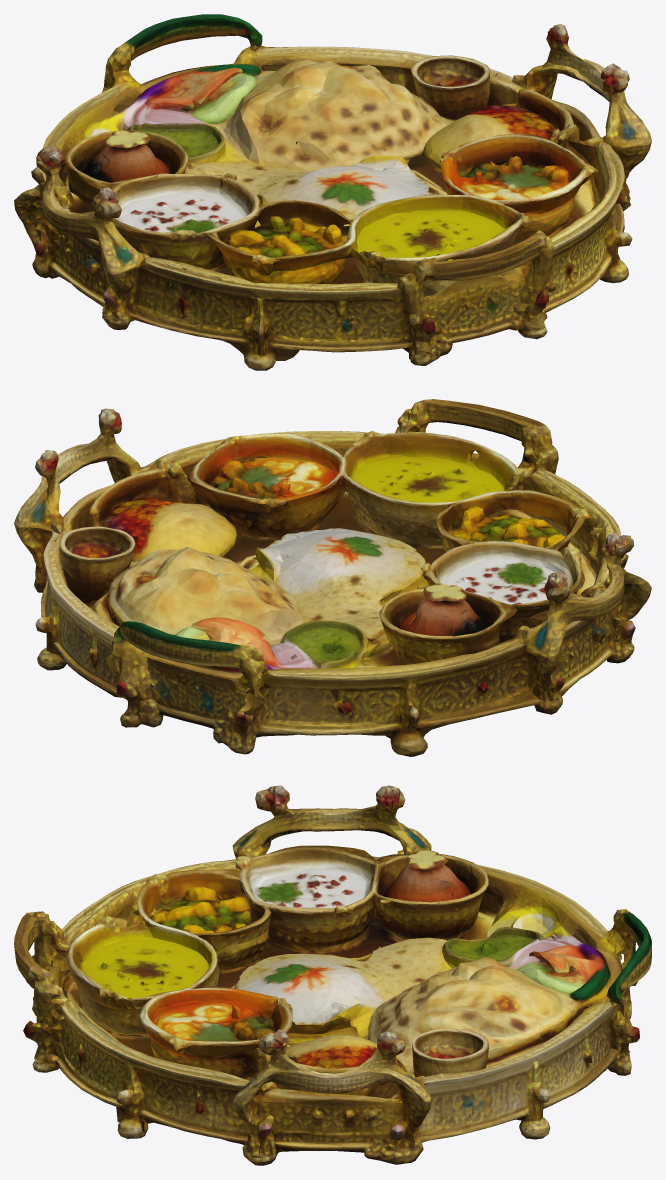
The picture shows the model from 3 angles, top to bottom: view 1: azimuth 30°, elevation 25°; view 2: azimuth 150°, elevation 25°; view 3: azimuth 270°, elevation 25°; orthographic projection.
Visible parts, largest first — view 1: world; view 2: world; view 3: world.
Part boxes in pixels (<box>): world: <box>14,14,651,370</box>; world: <box>14,399,651,756</box>; world: <box>14,785,651,1165</box>.
Size of the model in its own units: 0.9987 by 0.2441 by 0.9963.
Materials: 1 (1 with a texture image).
